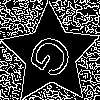G: (26, 30, 84, 88)
